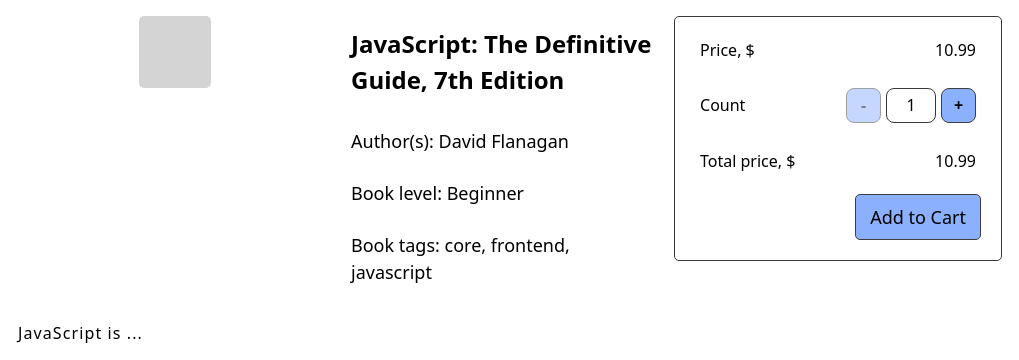
Test: Specificbook › When the quantity changes, the total cost must change
Expected: the text with test id "total-price" next to "Total price, $" reads "10.99", [935,150,976,172]
Replace the text in the field with test id "Count" with "10" at (911,105), box [886,88,936,122]
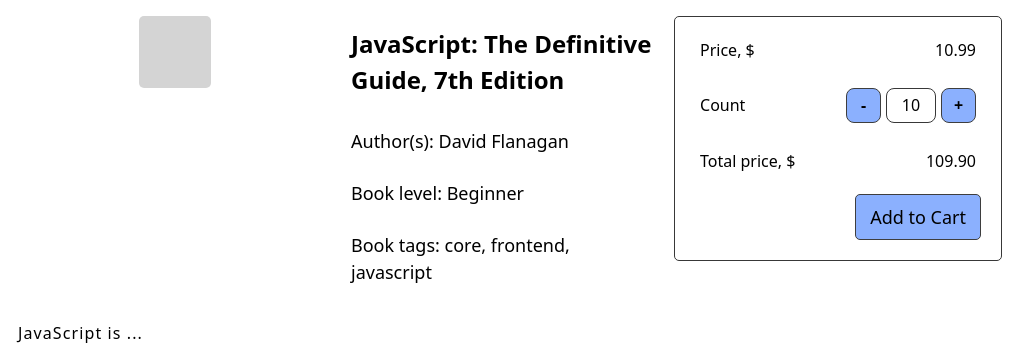
Expected: the text with test id "total-price" reads "109.90", [926,150,976,172]
